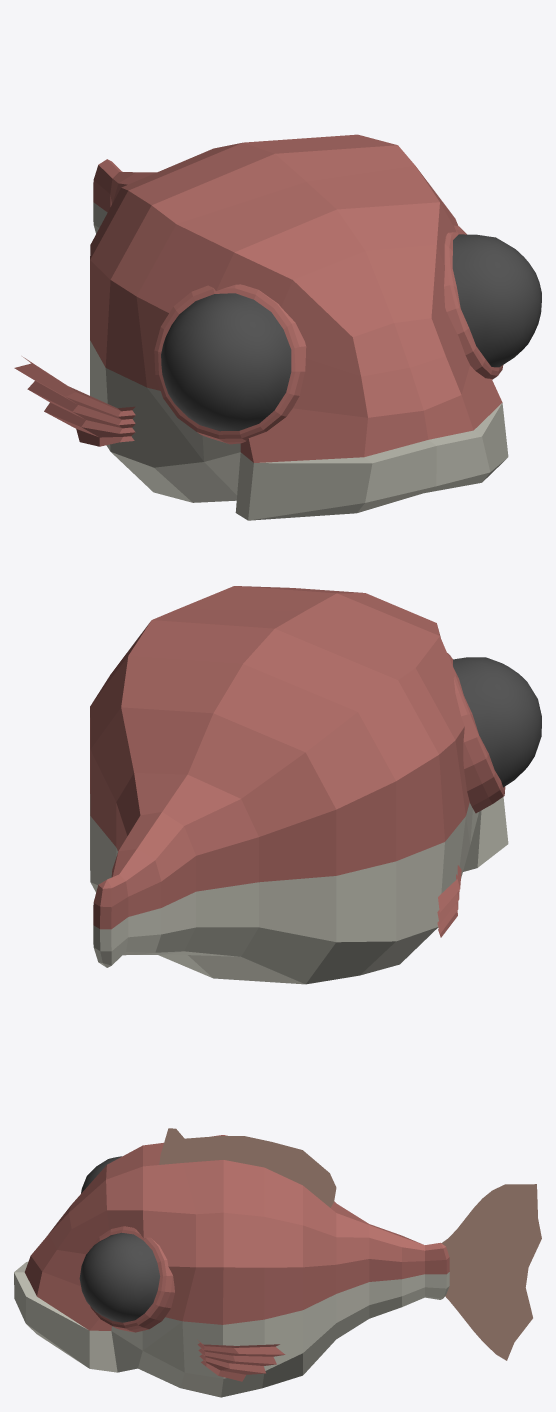
Rendered from redsnapper.glb.
3 views of the same model, one above another, from view 1: azimuth 30°, elevation 25°; view 2: azimuth 150°, elevation 25°; view 3: azimuth 270°, elevation 25° (orthographic). The views are drawn at different scales.
Visible parts, largest first — view 1: cutefish__RedSnapper.glb; view 2: cutefish__RedSnapper.glb; view 3: cutefish__RedSnapper.glb.
Boxes of the visible parts, x1,y1,x2,y2 form: cutefish__RedSnapper.glb: [14, 134, 541, 520]; cutefish__RedSnapper.glb: [90, 586, 541, 984]; cutefish__RedSnapper.glb: [14, 1128, 541, 1397].
Size of the model in its own units: 3.18 by 2.69 by 5.28.
